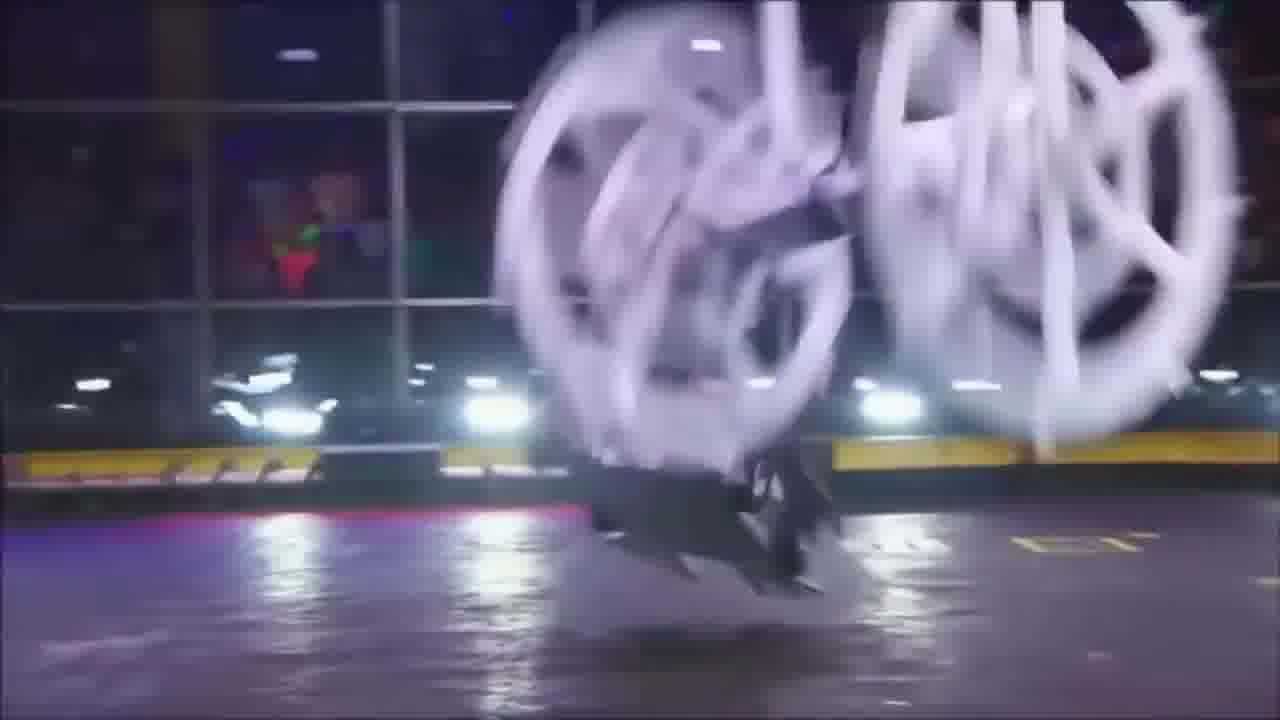combatbot: (492, 3, 1238, 455), (526, 448, 850, 597)
